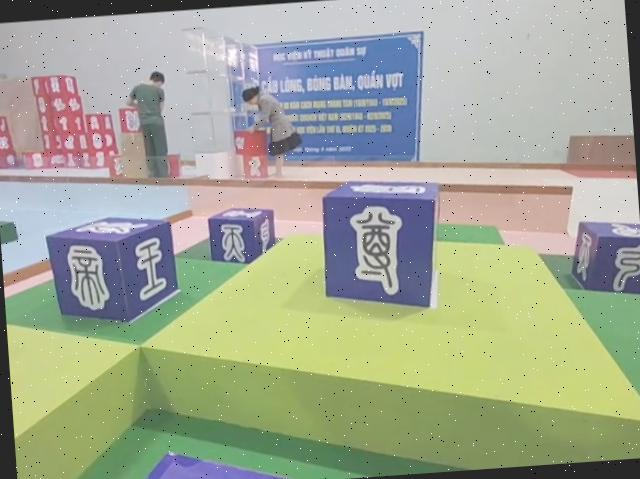R2 Fake Blue: (314, 177, 445, 318), (44, 213, 181, 330), (562, 215, 640, 301), (203, 203, 275, 266)
